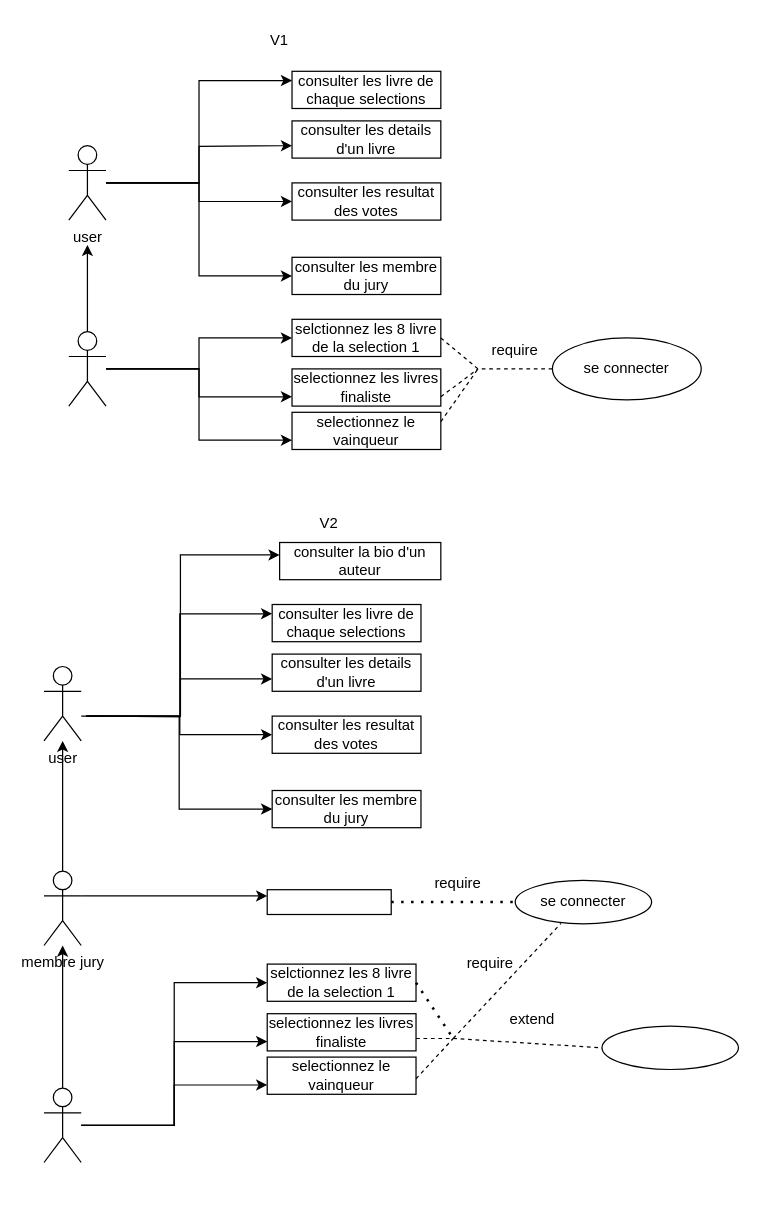
This 760x1228 diagram has some shape labels left out. Each missing label, with the centre of its shape:
admin: point 62,1124
cacule_automatique: point 669,1047
president: point 87,368
votez pr un livre: point 328,901
